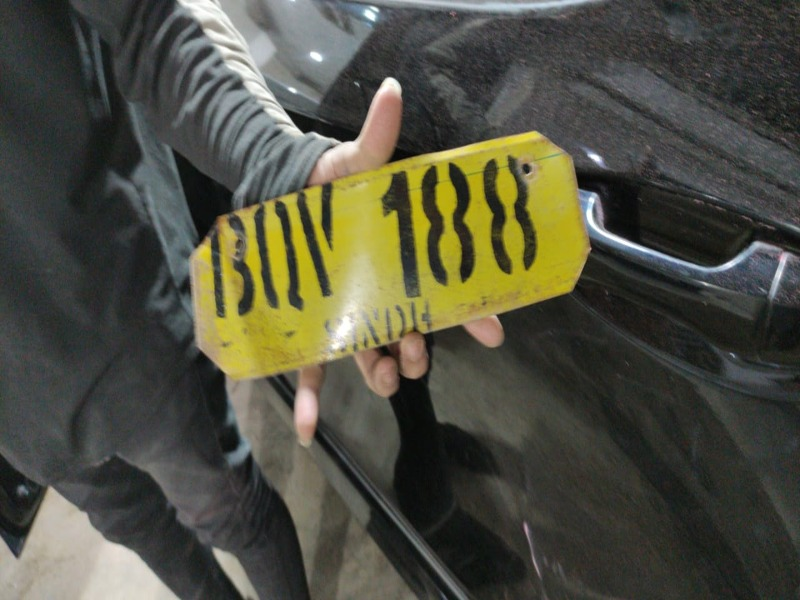License Plate: (191, 133, 589, 363)
